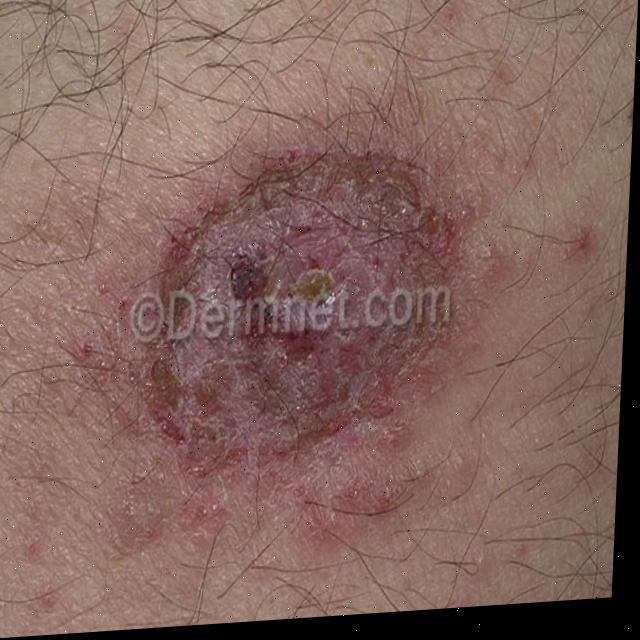Eczema: (185, 175, 409, 420)
